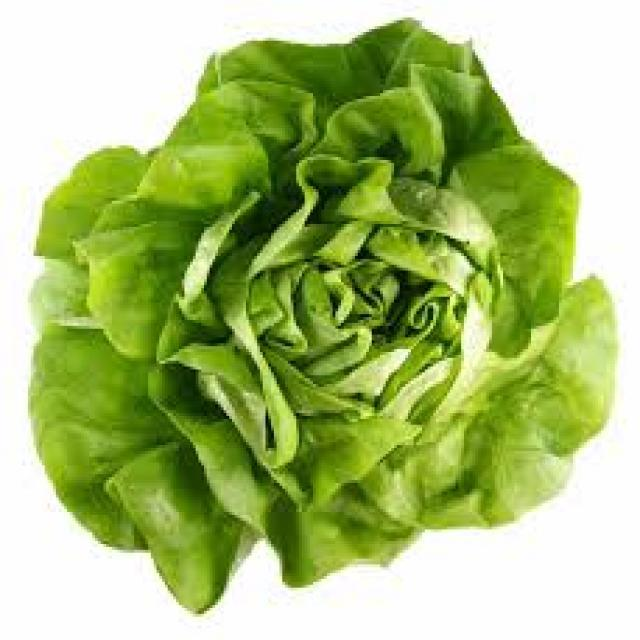Lettuce: (29, 20, 608, 600)
